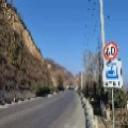speed_limit_60: (103, 42, 119, 60)
